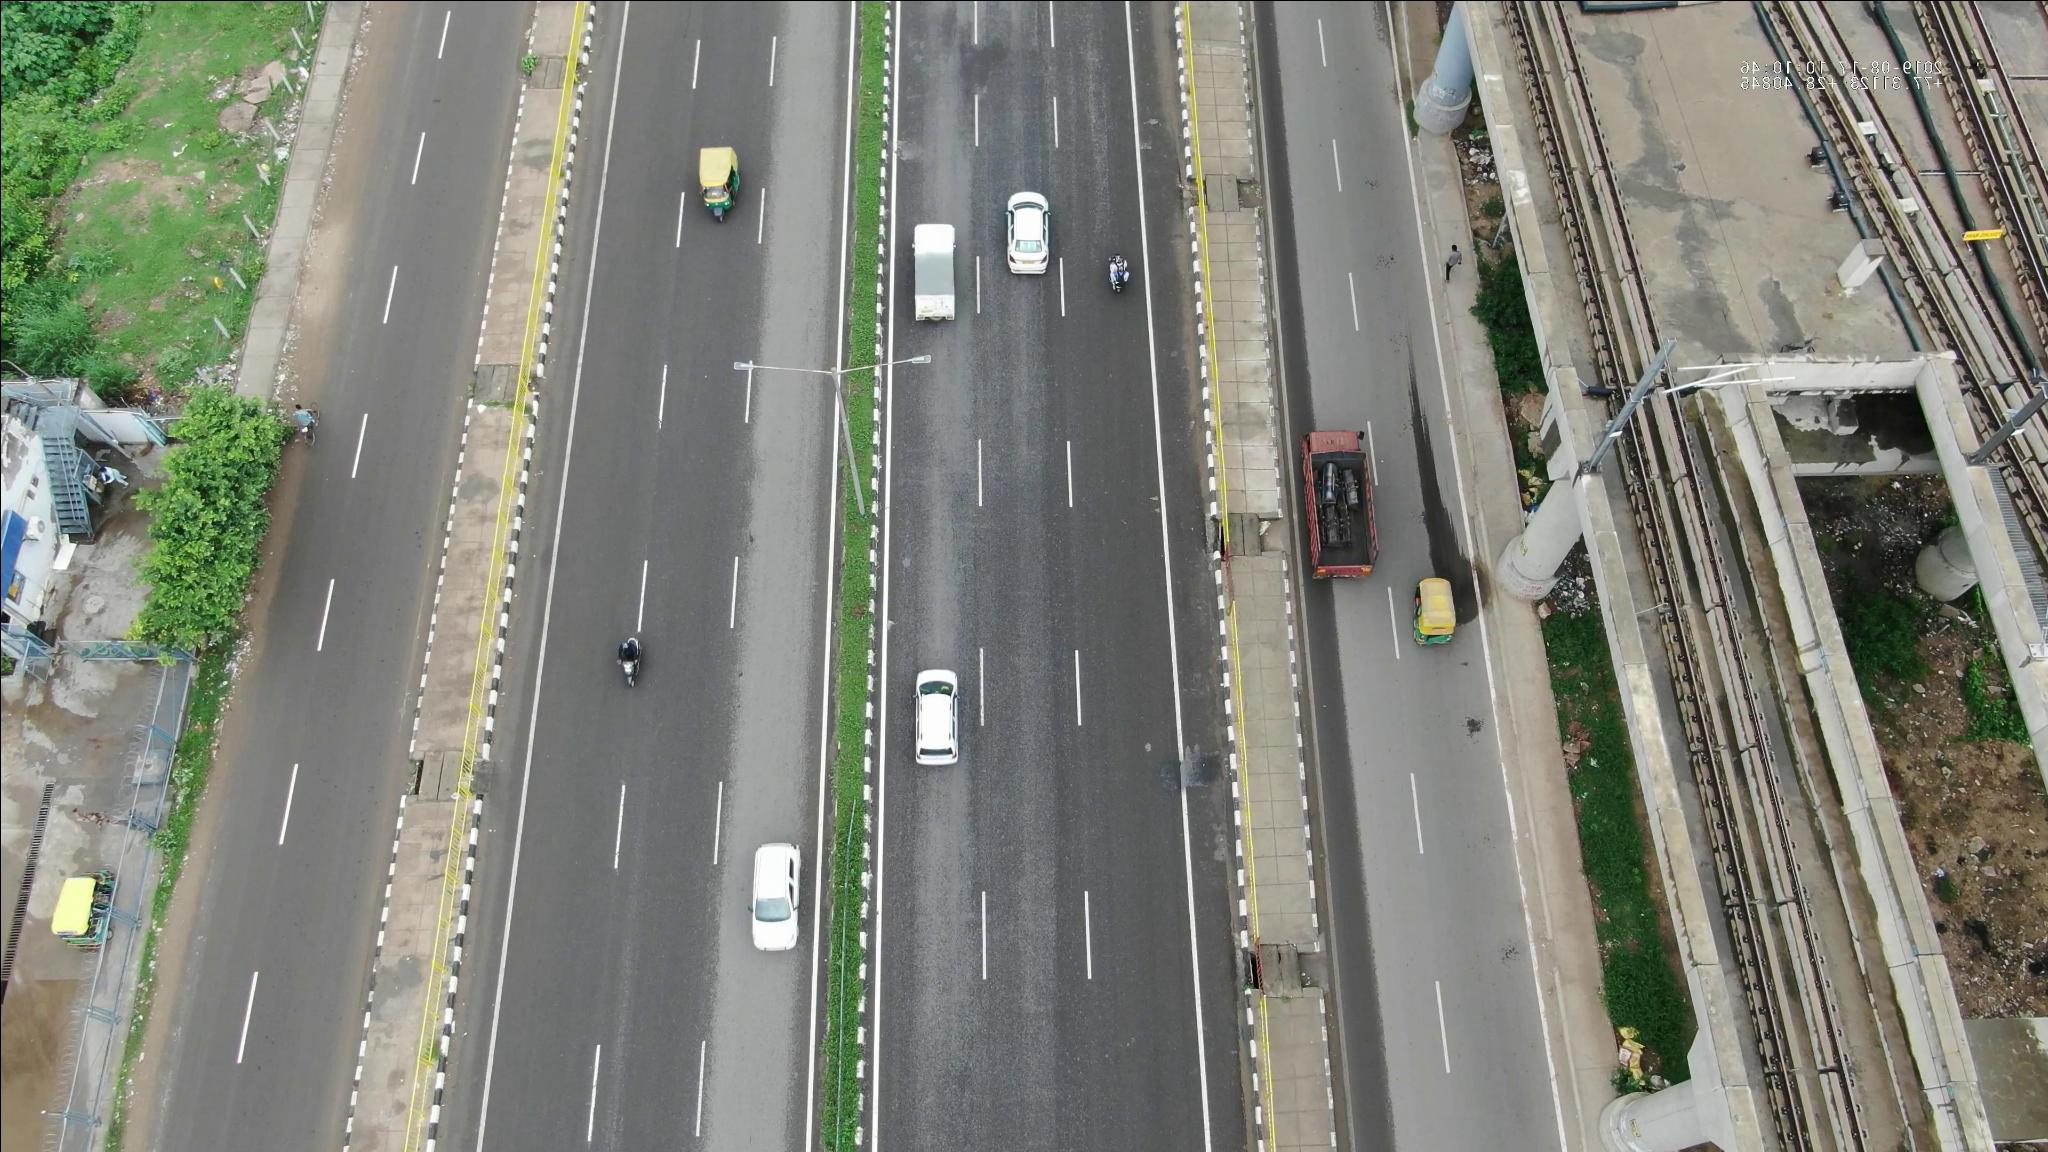Muddy_road: (307, 79, 388, 314)
